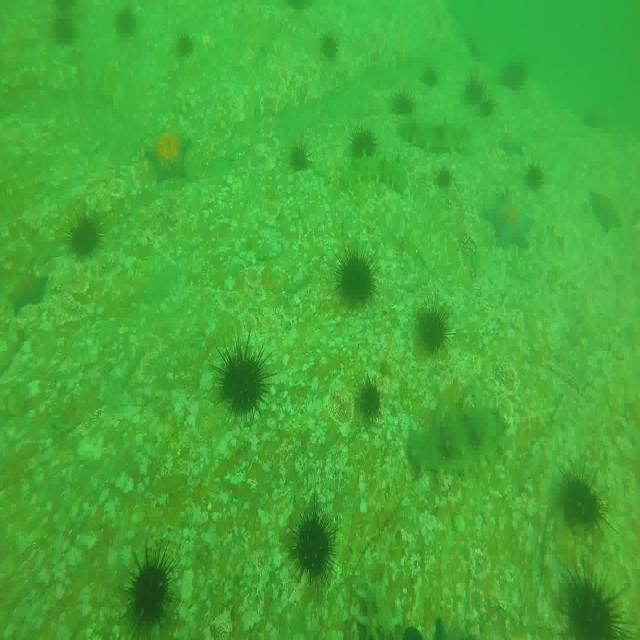echinus: (561, 573, 627, 640), (125, 558, 176, 632), (218, 344, 268, 417), (289, 510, 337, 583), (559, 468, 606, 538), (336, 250, 376, 308), (416, 300, 449, 352), (52, 0, 84, 48), (68, 213, 102, 255), (358, 373, 384, 422), (348, 126, 380, 160), (462, 73, 486, 113), (116, 4, 140, 43), (391, 89, 418, 123), (289, 144, 314, 178), (432, 162, 454, 194), (176, 28, 196, 63), (524, 164, 547, 194), (475, 90, 497, 120), (319, 32, 340, 63)
holothurian: (407, 402, 511, 474), (355, 572, 399, 640), (394, 120, 476, 153), (336, 156, 408, 192)
starfish: (482, 192, 536, 252), (142, 128, 191, 187), (7, 272, 48, 318), (587, 189, 622, 234), (498, 132, 527, 157)
